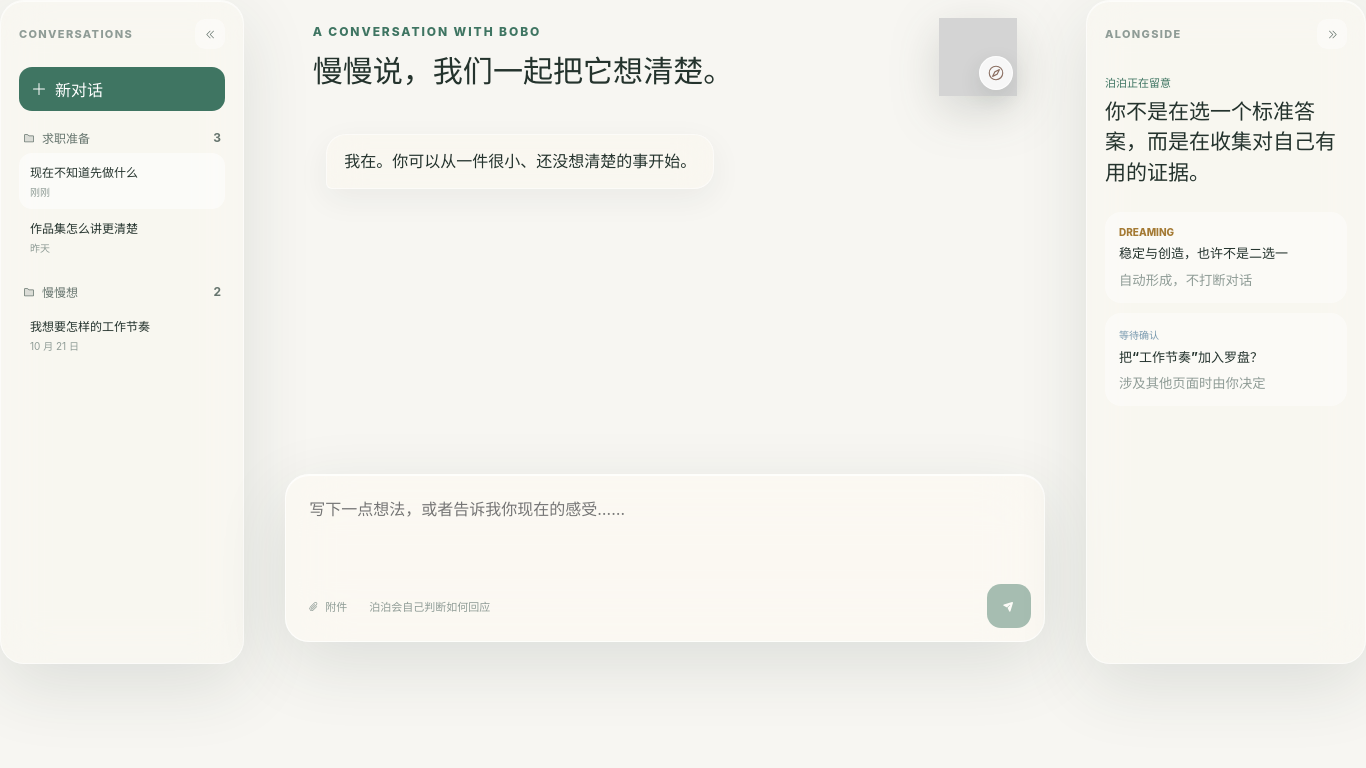
chat page › lets the agent choose support mode and renders the real reply
Type "我不知道先做什么" into the text box named "给泊泊发送消息" at [665, 534], box x1=299 y1=488 x2=1031 y2=580
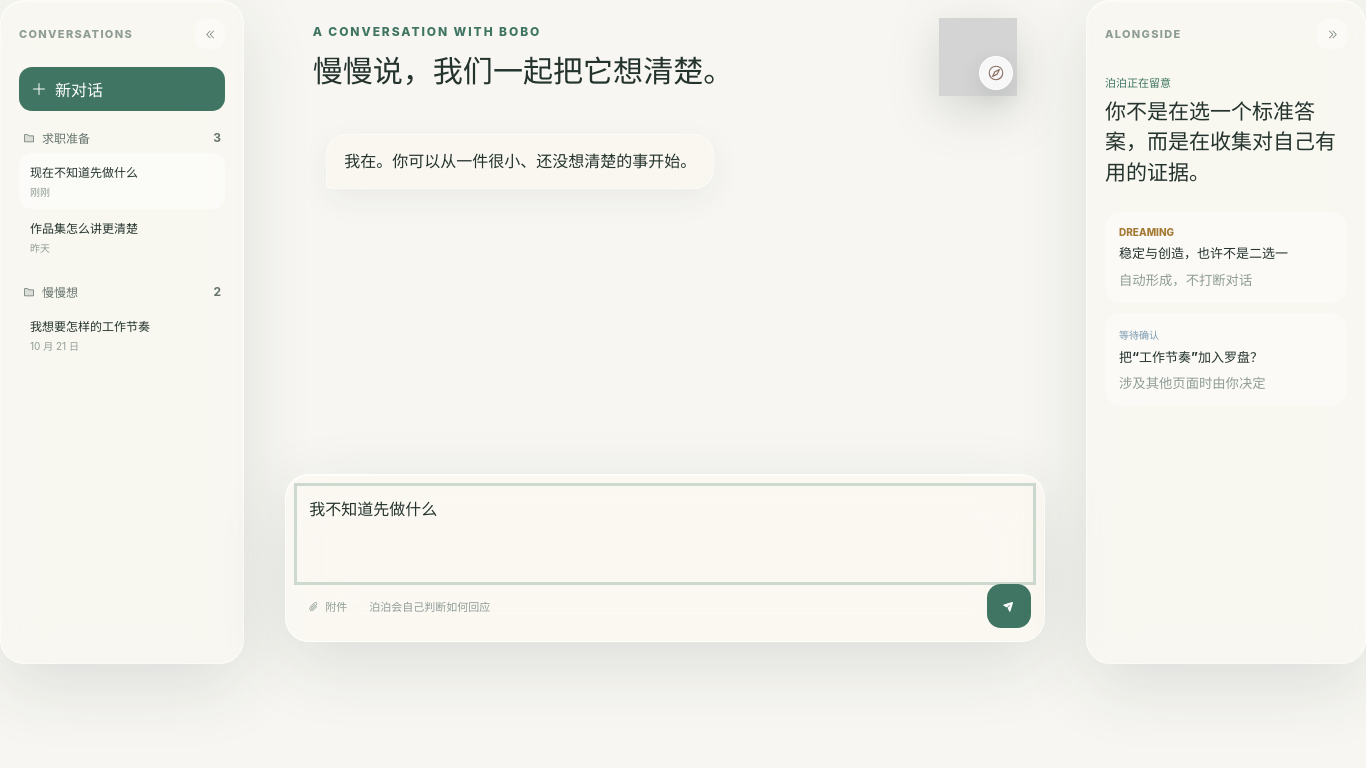
Click the button named "发送" at [1009, 606], box x1=987 y1=584 x2=1031 y2=628
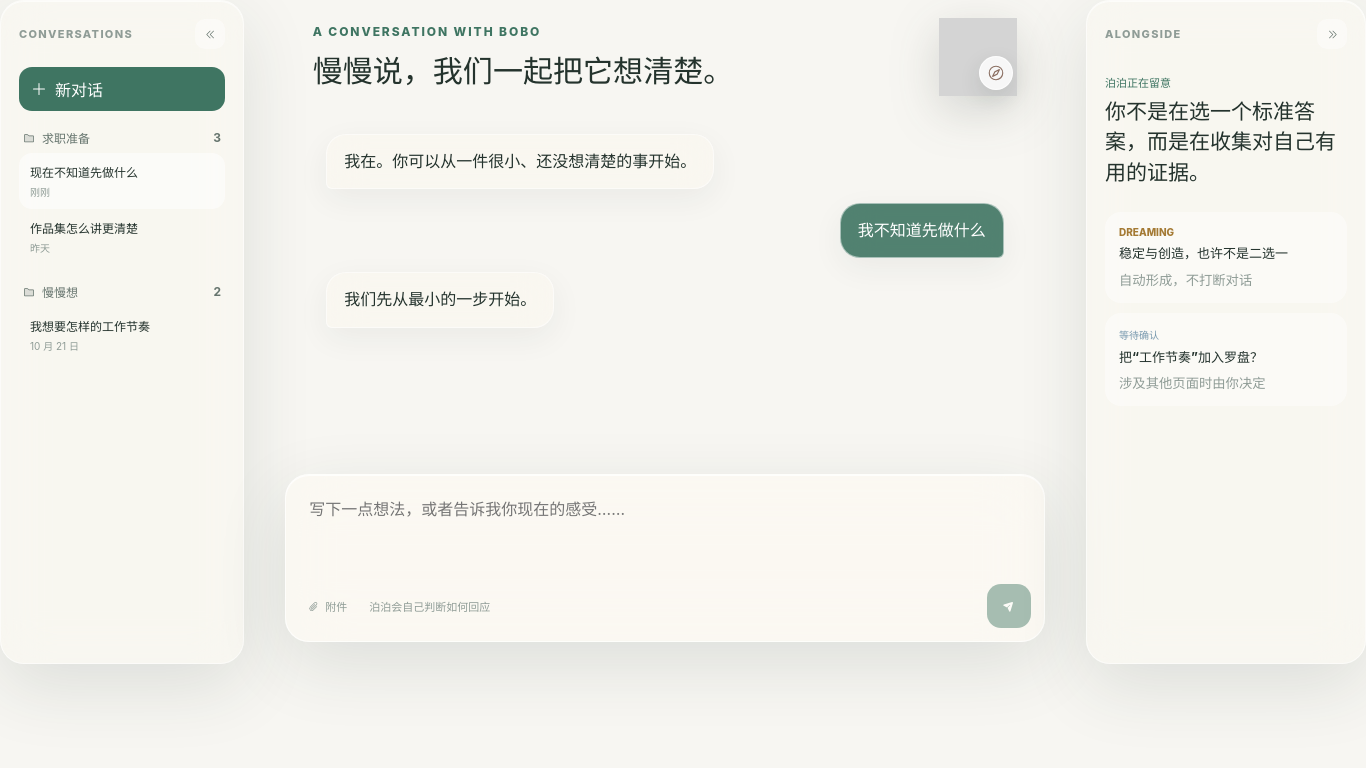
expect the text "我们先从最小的一步开始。" is shown: met, box x1=326 y1=272 x2=554 y2=328
